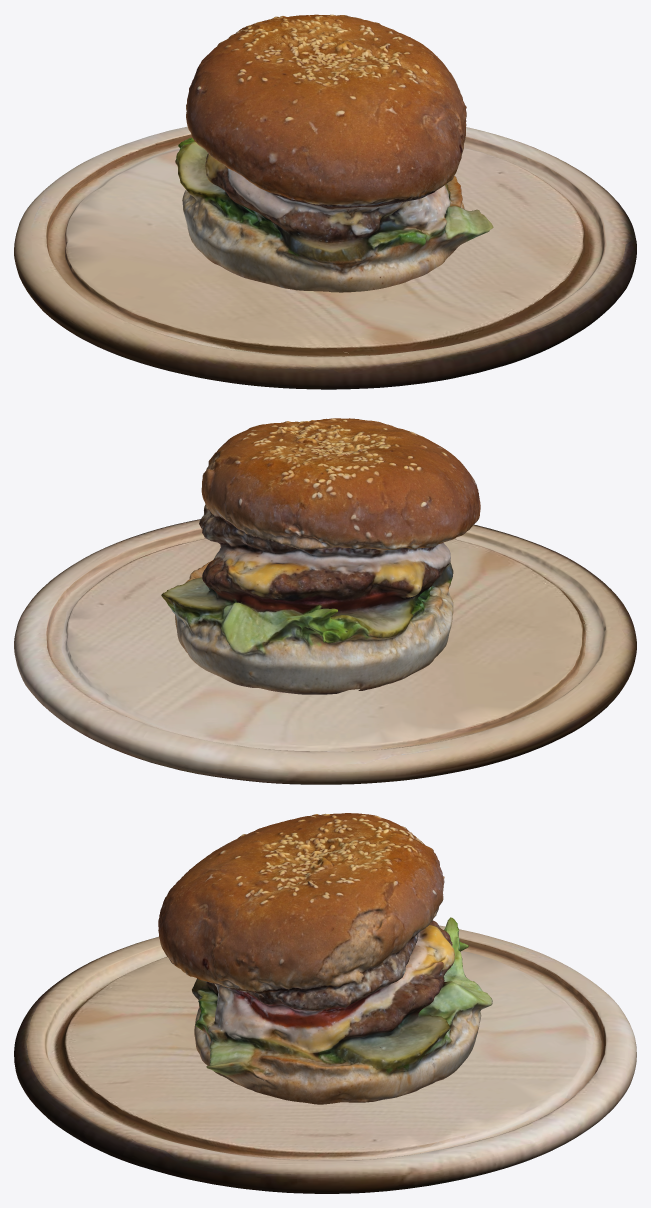
The model's file is double.burger.bite.glb.
3 views of the same model, one above another, from view 1: azimuth 30°, elevation 25°; view 2: azimuth 150°, elevation 25°; view 3: azimuth 270°, elevation 25° (orthographic).
Visible parts, largest first — view 1: Submesh_0.001, 3DModel; view 2: Submesh_0.001, 3DModel; view 3: Submesh_0.001, 3DModel.
Boxes of the visible parts, x1,y1,x2,y2 form: Submesh_0.001: [14, 126, 636, 389]; 3DModel: [175, 14, 493, 292]; Submesh_0.001: [14, 519, 636, 784]; 3DModel: [161, 418, 480, 694]; Submesh_0.001: [14, 925, 636, 1193]; 3DModel: [158, 813, 492, 1104].
Bounding box in the file's own units: 0.2887 × 0.113 × 0.2887.
2 materials, 2 textured.
